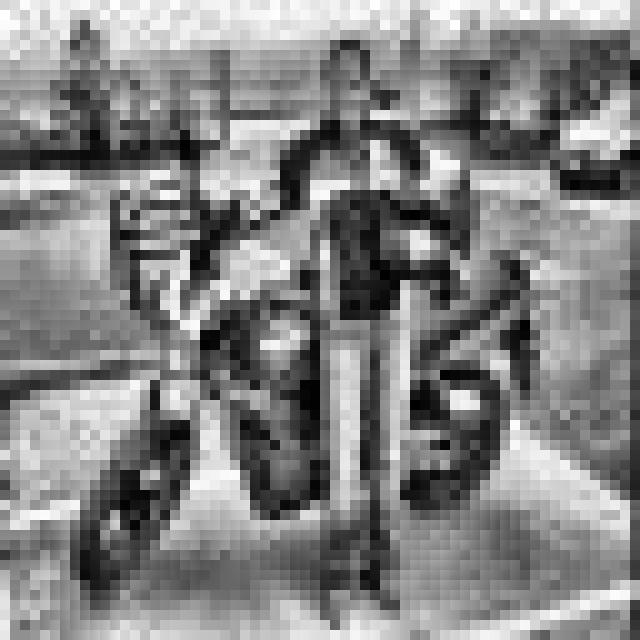mopeds: (87, 126, 571, 613)
